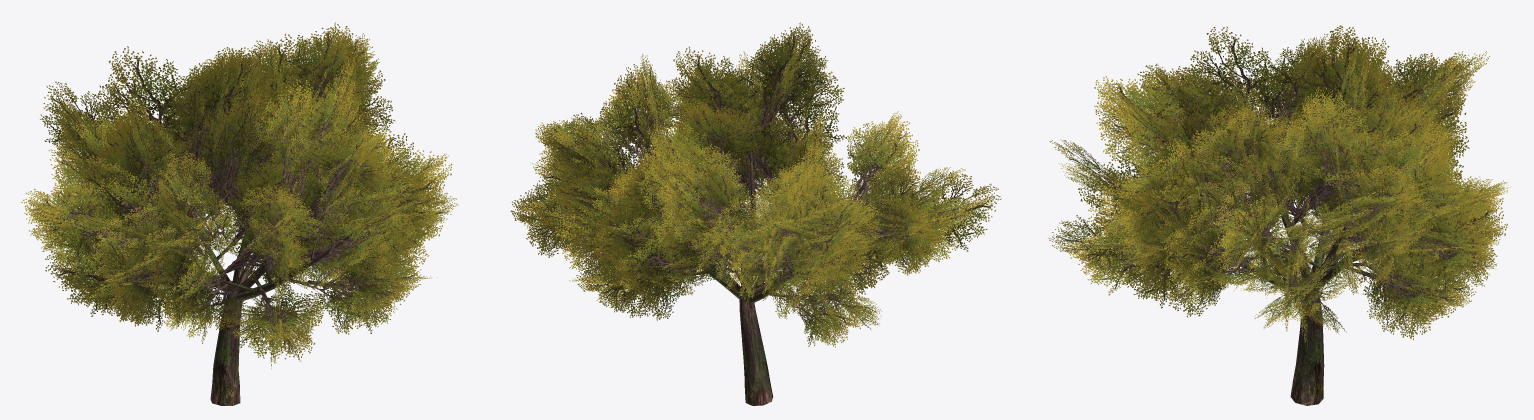
Rendered from ginkgo_lod0.glb.
3 renders of one model, left to right at view 1: azimuth 30°, elevation 25°; view 2: azimuth 150°, elevation 25°; view 3: azimuth 270°, elevation 25°, orthographic. The views are drawn at different scales.
Visible parts, largest first — view 1: ginkgo_lod0; view 2: ginkgo_lod0; view 3: ginkgo_lod0.
Boxes of the visible parts, x1,y1,x2,y2 form: ginkgo_lod0: (21,22,458,405); ginkgo_lod0: (510,22,1001,405); ginkgo_lod0: (1048,25,1511,405).
Size of the model in its own units: 26.32 by 21.94 by 24.99.
2 materials, 2 textured.
